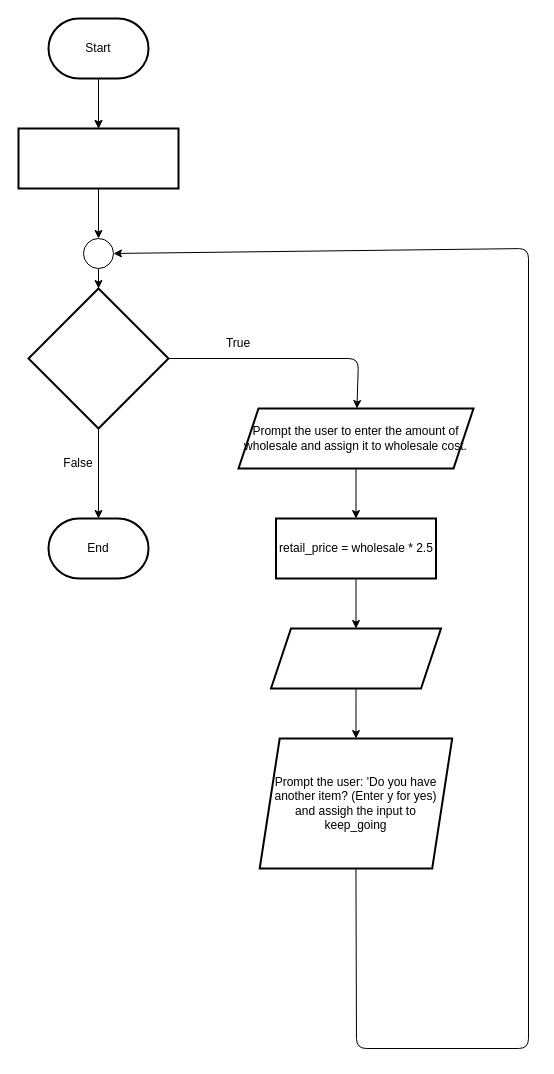
Image size: 554x1074. Some labels were removed from this diagram. The centre of each missing label's shape, as x and y in pixels:
"Assign 'y' to keep_going" belongs at point (98, 158).
"Display the retail price" belongs at point (356, 658).
"keep going == 'y'" belongs at point (98, 358).
